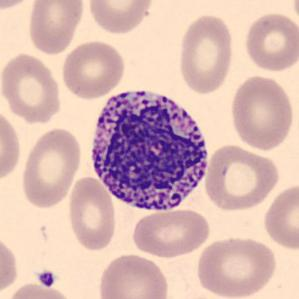Basophil: (84, 79, 215, 217)
Platelets: (36, 269, 58, 289)
RBC: (202, 142, 282, 213), (193, 233, 279, 299), (19, 126, 84, 210), (227, 73, 296, 152), (176, 12, 236, 96), (0, 50, 64, 125), (129, 207, 212, 258), (59, 38, 127, 100), (66, 174, 118, 253), (95, 251, 171, 299), (242, 10, 298, 73), (25, 0, 86, 56), (261, 182, 298, 252), (86, 0, 156, 36), (0, 106, 23, 184), (0, 231, 21, 297), (4, 281, 70, 299), (0, 0, 36, 12), (290, 0, 299, 29)
